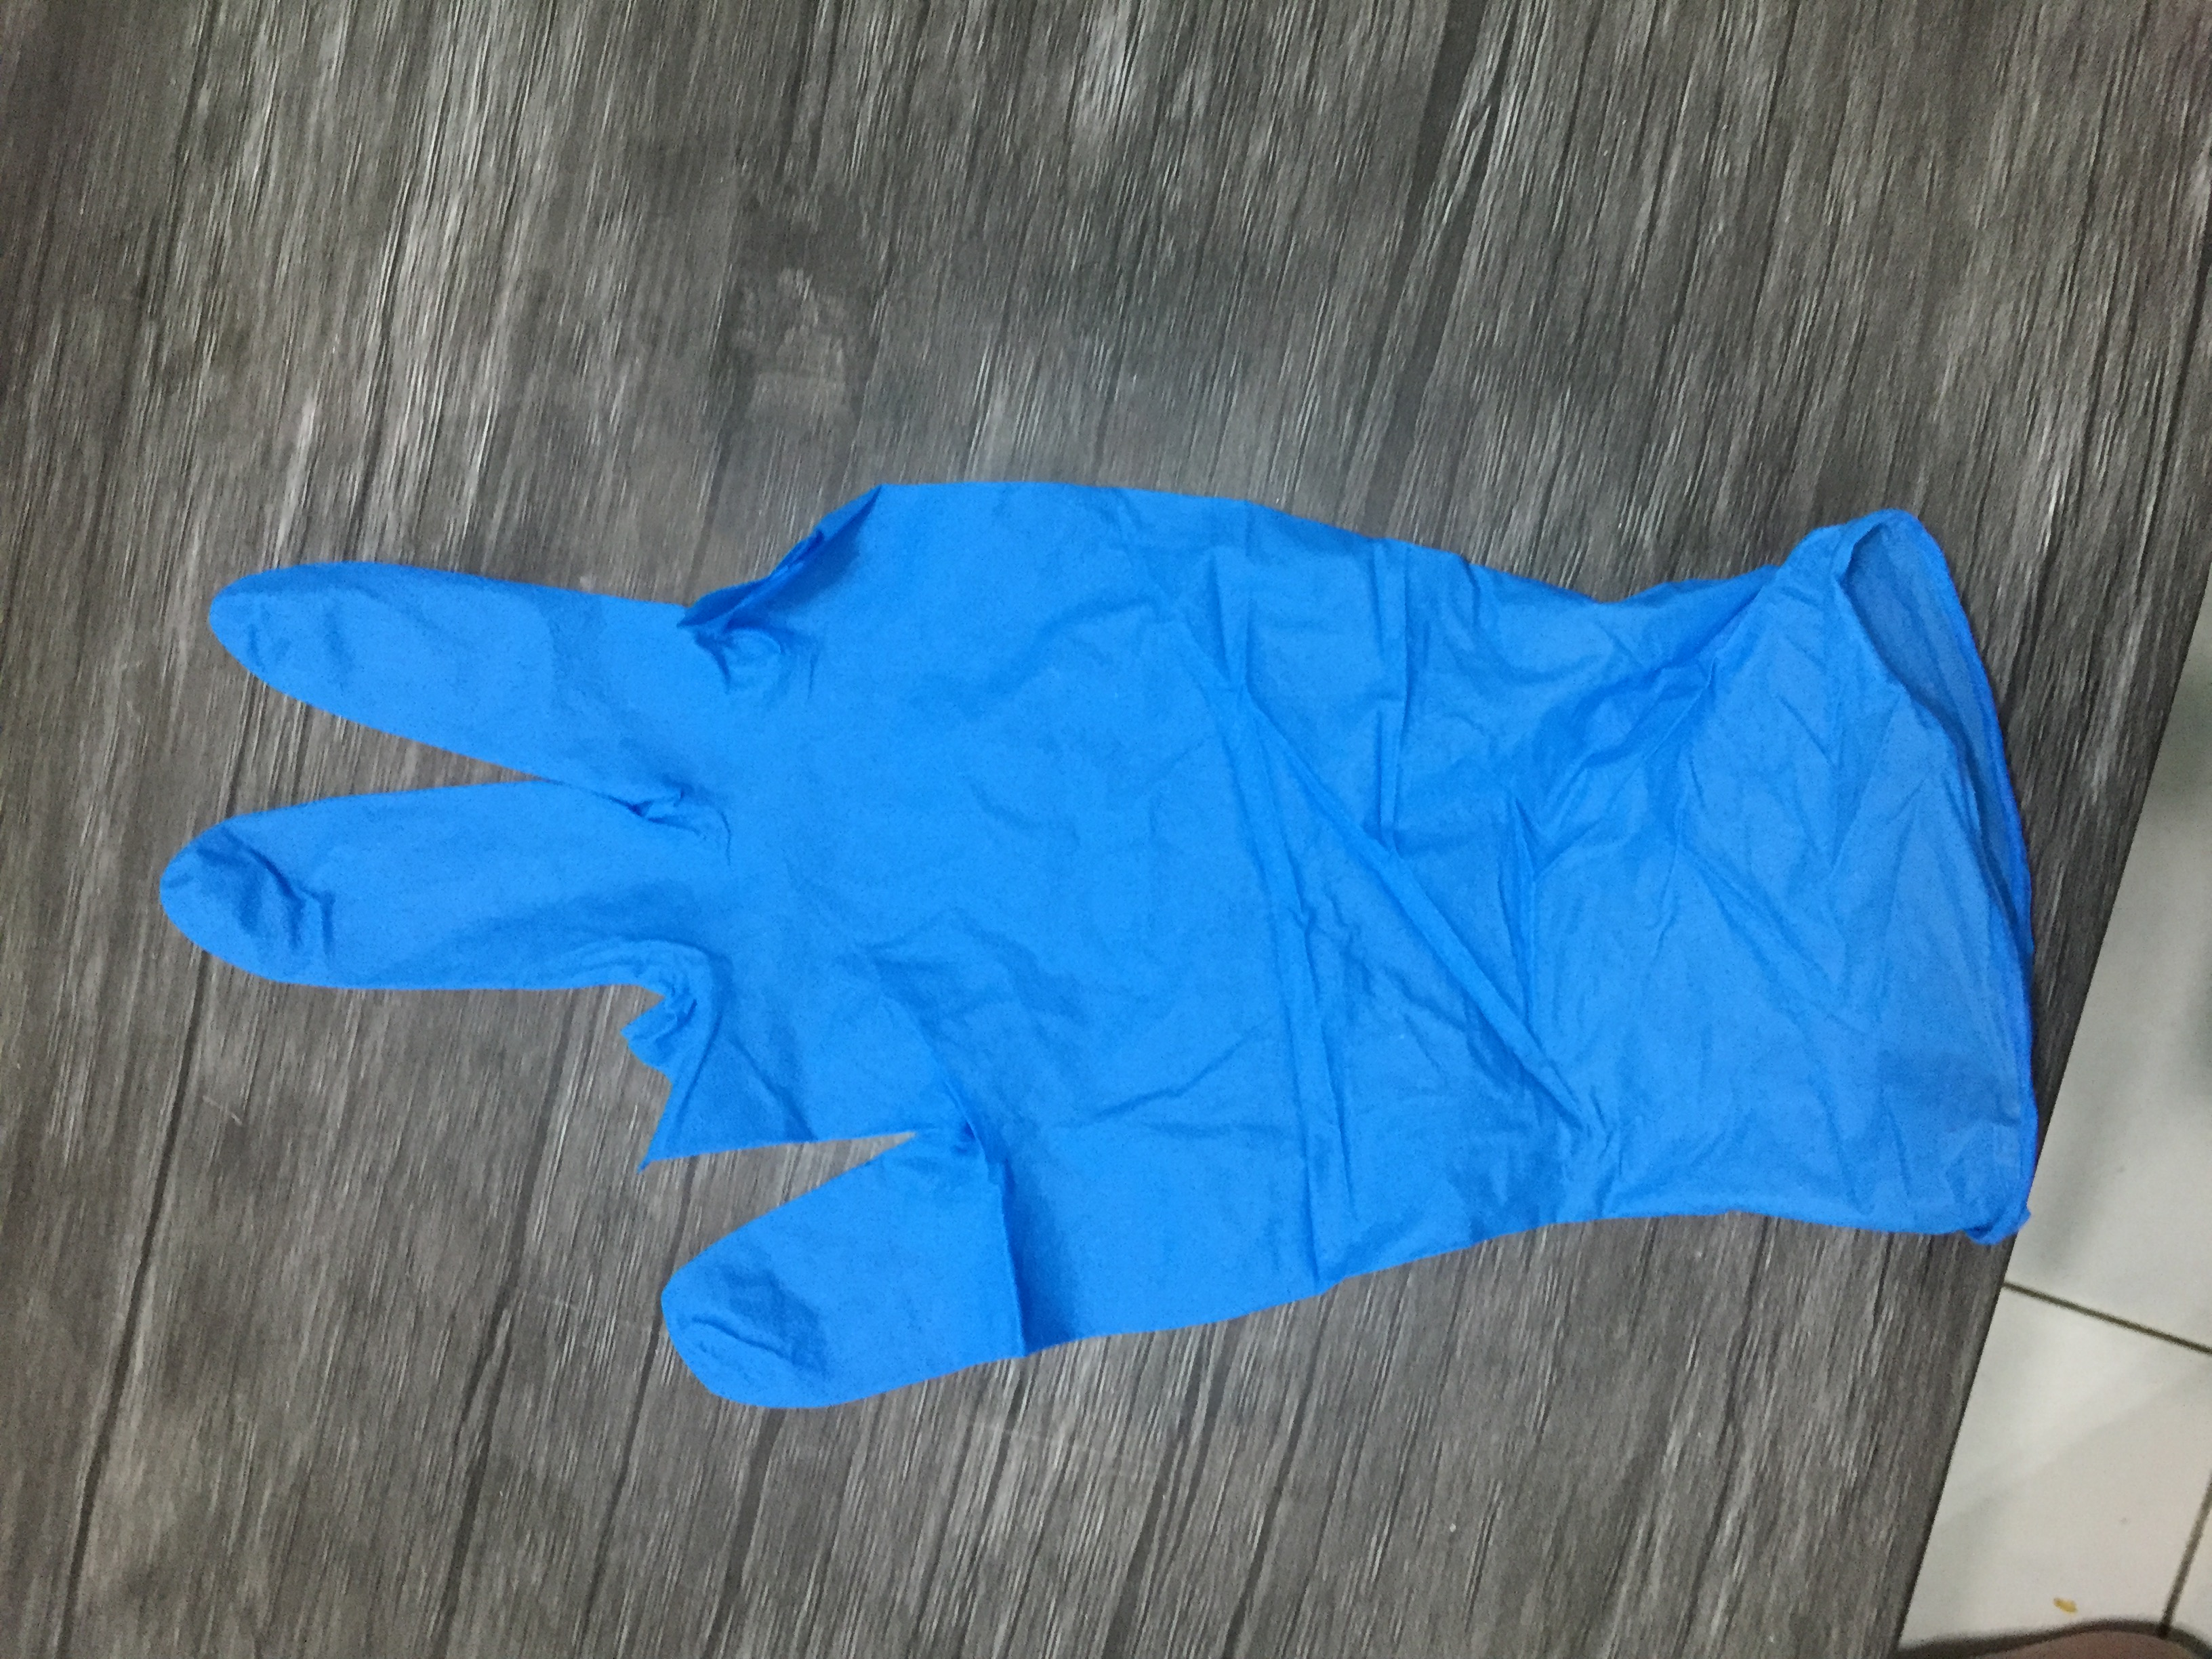defected: (136, 476, 2179, 1511)
